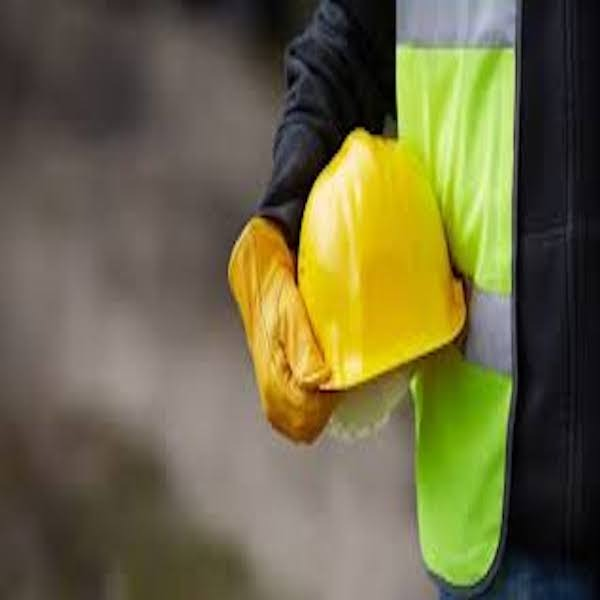helmet: (300, 138, 452, 378)
vest: (423, 15, 532, 575)
